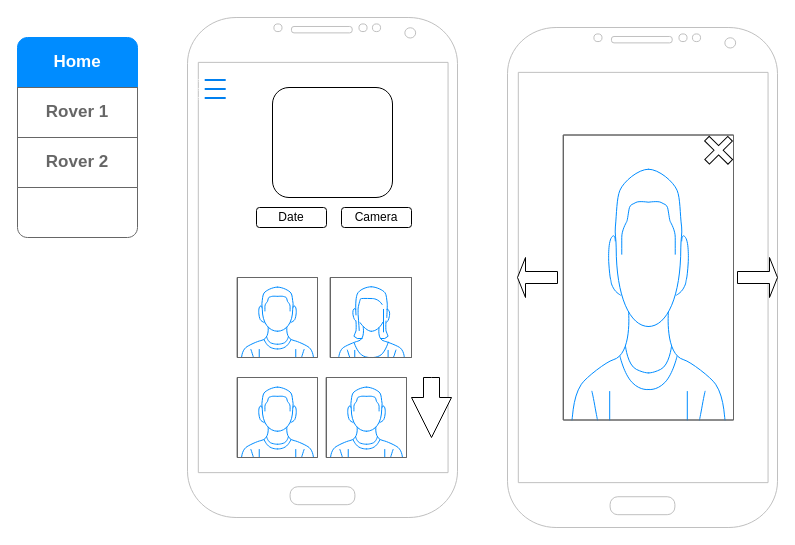
This 795x545 diagram has some shape labels left out. The shapes that lost their labels are listed below. From the top down, each one's centre as x and y in pixels, then its label:
[332,142]: Annotated rover
[77,212]: Rover 3
